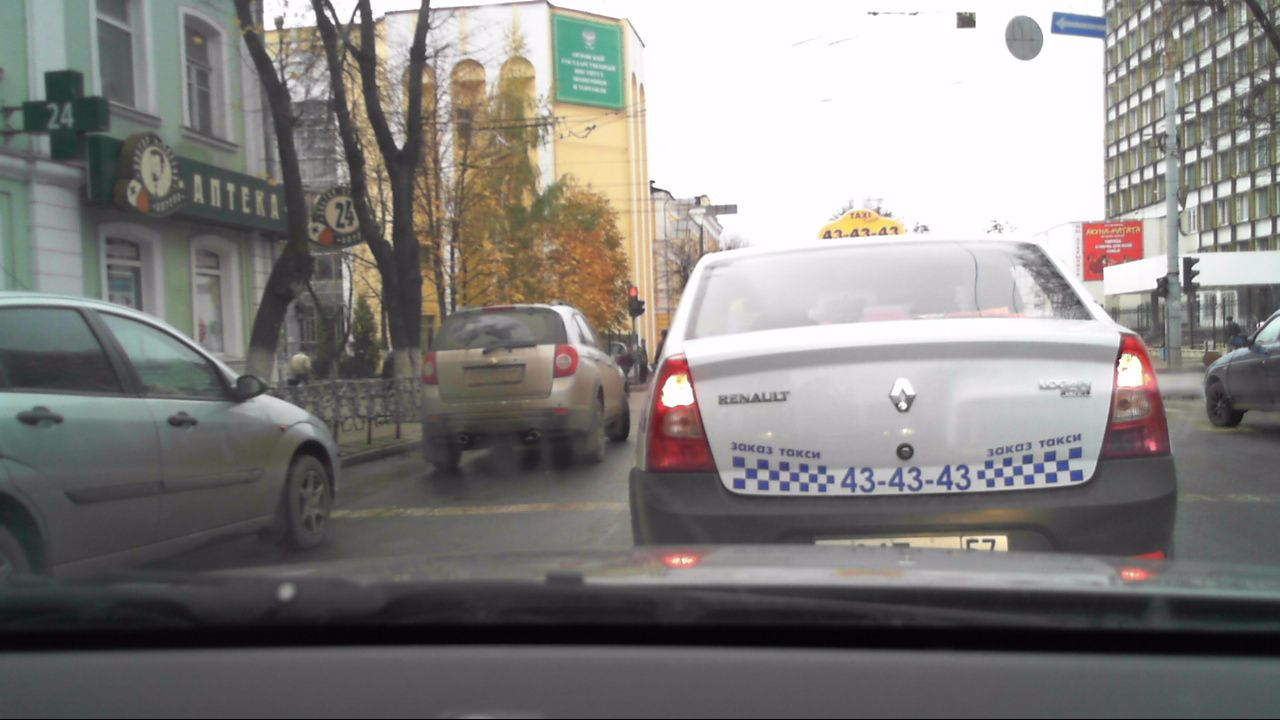One-Way Traffic: (1051, 12, 1106, 38)
